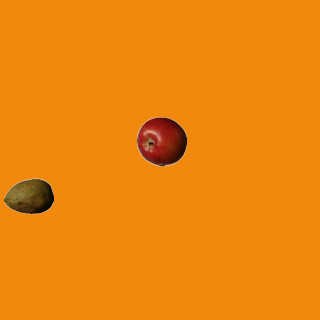Apple Braeburn: (136, 116, 186, 166)
Papaya: (3, 171, 53, 221)
